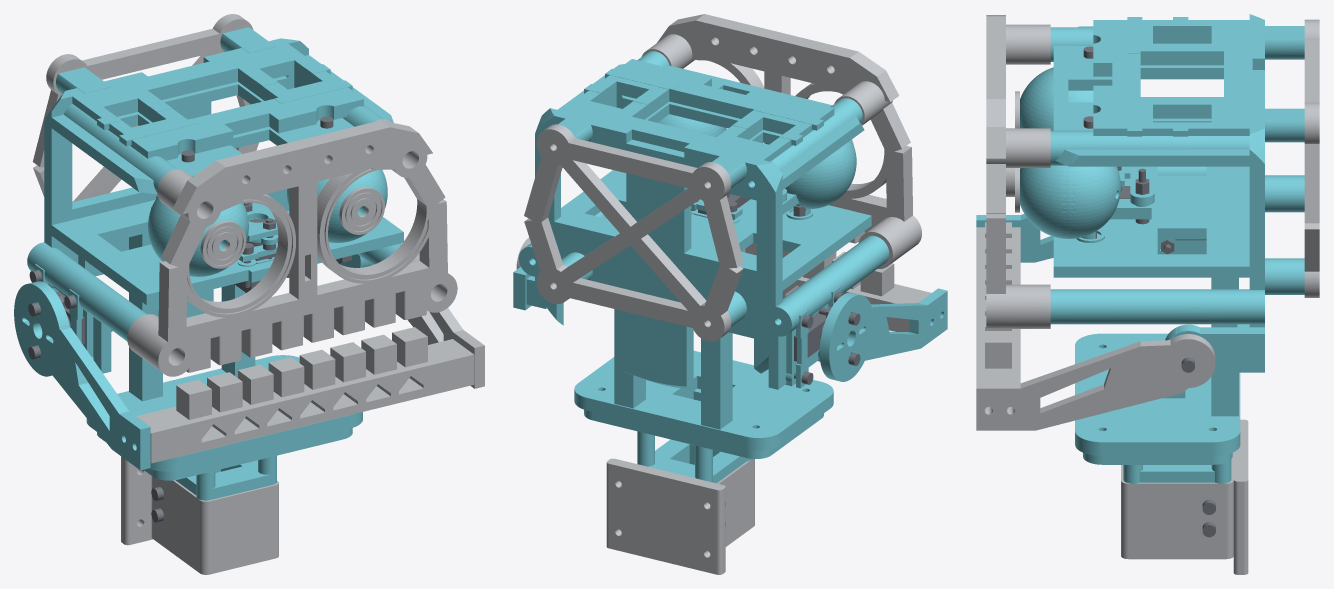
Rendered from Mimic_M3_assembly.glb.
3 renders of one model, left to right at view 1: azimuth 30°, elevation 25°; view 2: azimuth 150°, elevation 25°; view 3: azimuth 270°, elevation 25°, orthographic. The views are drawn at different scales.
Visible parts, largest first — view 1: P04, P12, P19, P01, P08, P13, P03, P05_L, P18, P15_R, P15_L, P05_R (+1 smaller); view 2: P04, P13, P12, P01, P08, P03, P05_L, P19, P05_R, A03_jaw_33, servo_jaw; view 3: P04, P12, P18, P01, P05_R, P19, P13, P03, P05_L, P08, P06.
Boxes of the visible parts, bbox=[...] form: P04: bbox=[27, 27, 403, 471]; P12: bbox=[127, 119, 457, 376]; P19: bbox=[136, 327, 474, 463]; P01: bbox=[121, 456, 278, 574]; P08: bbox=[14, 281, 150, 470]; P13: bbox=[32, 14, 258, 201]; P03: bbox=[97, 428, 352, 500]; P05_L: bbox=[148, 197, 248, 276]; P18: bbox=[400, 243, 484, 388]; P15_R: bbox=[339, 186, 384, 234]; P15_L: bbox=[200, 220, 246, 268]; P05_R: bbox=[287, 170, 387, 242]; P04: bbox=[513, 51, 889, 450]; P13: bbox=[524, 124, 743, 341]; P12: bbox=[641, 14, 921, 268]; P01: bbox=[606, 458, 754, 574]; P08: bbox=[819, 288, 947, 381]; P03: bbox=[584, 388, 823, 483]; P05_L: bbox=[766, 140, 856, 215]; P19: bbox=[742, 243, 931, 331]; P05_R: bbox=[658, 114, 726, 137]; A03_jaw_33: bbox=[796, 310, 808, 388]; servo_jaw: bbox=[794, 312, 826, 361]; P04: bbox=[1050, 14, 1304, 456]; P12: bbox=[986, 15, 1050, 328]; P18: bbox=[976, 334, 1215, 430]; P01: bbox=[1121, 419, 1248, 574]; P05_R: bbox=[1020, 165, 1151, 239]; P19: bbox=[976, 222, 1020, 409]; P13: bbox=[1304, 19, 1319, 297]; P03: bbox=[1083, 391, 1232, 483]; P05_L: bbox=[1020, 67, 1093, 130]; P08: bbox=[976, 214, 1053, 262]; P06: bbox=[1130, 166, 1154, 205].
Bounding box in the file's own units: 0.1735 × 0.219 × 0.14.
